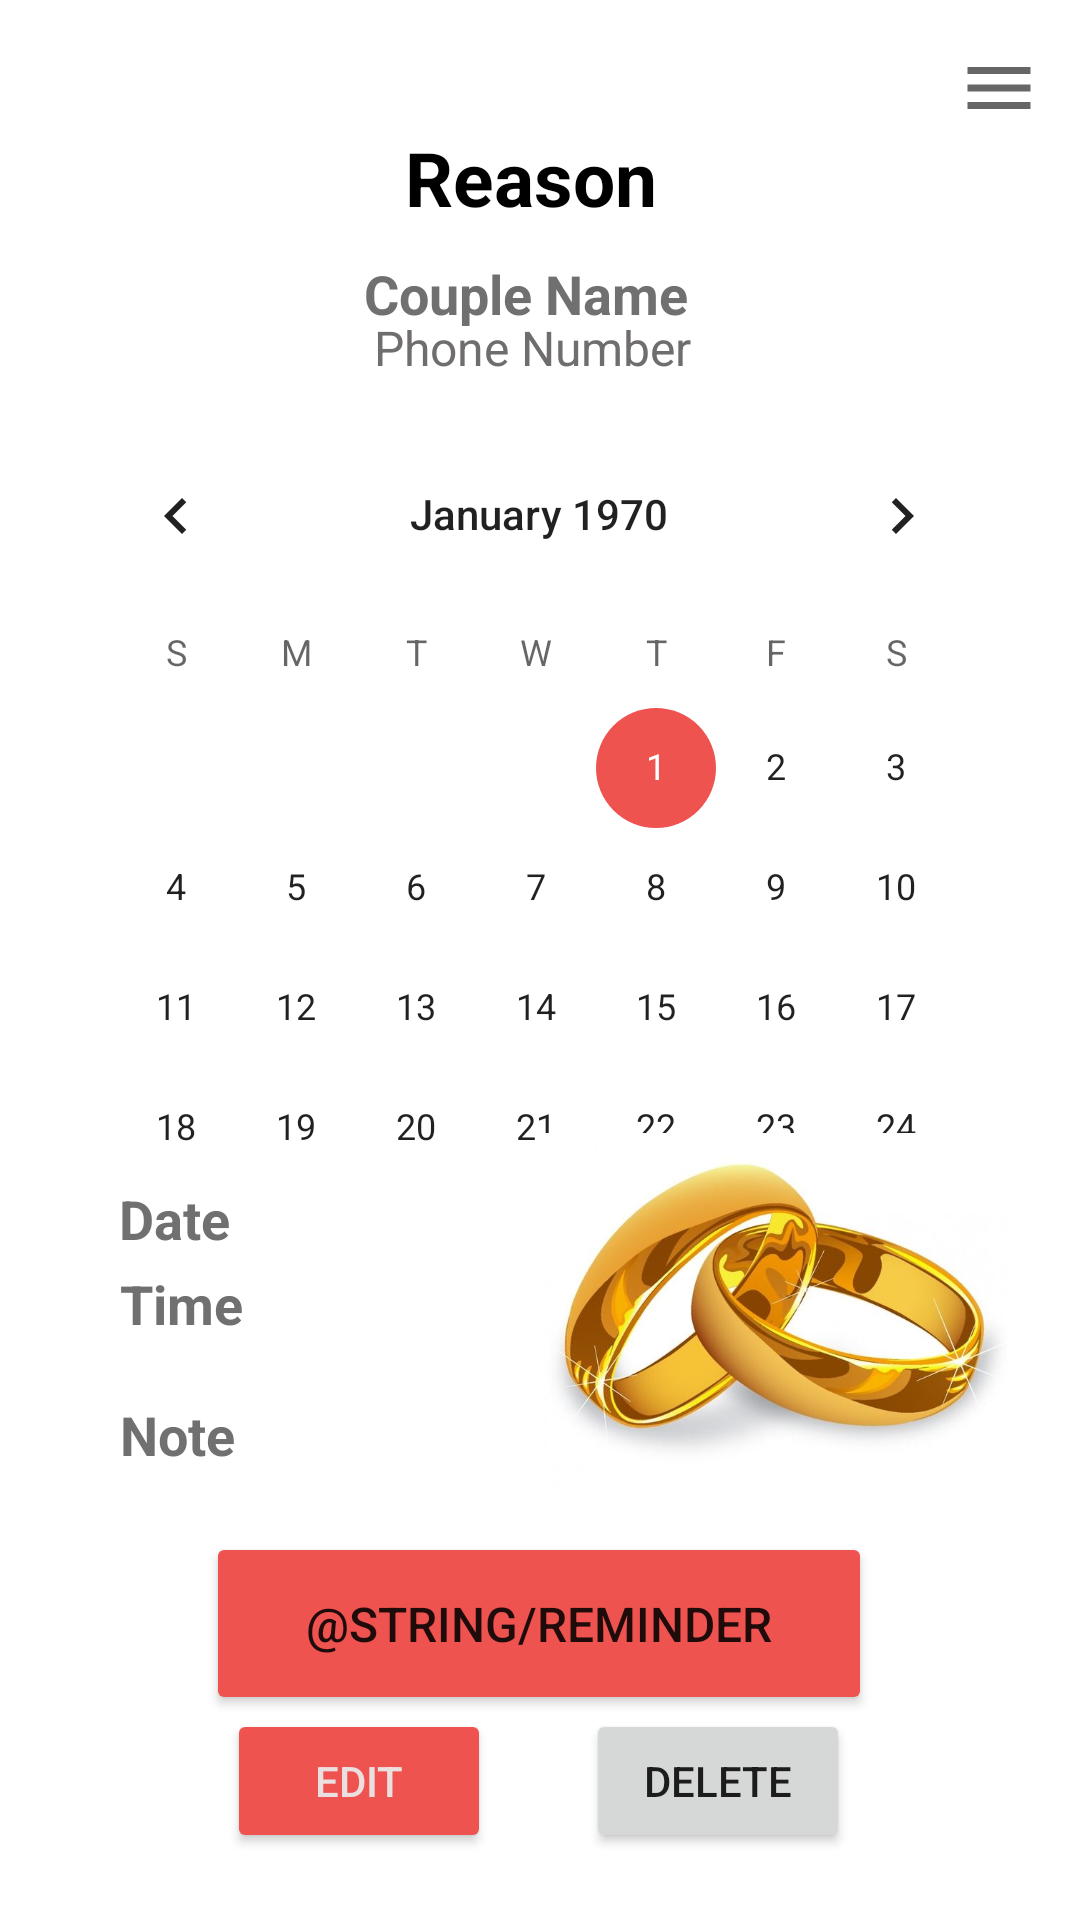

Named icons in this screenshot (1080*1920) and their bounding boxes, (x1=x1, y1=y1, x2=x2, y2=y2):
menu: (x1=967, y1=67, x2=1031, y2=109)
